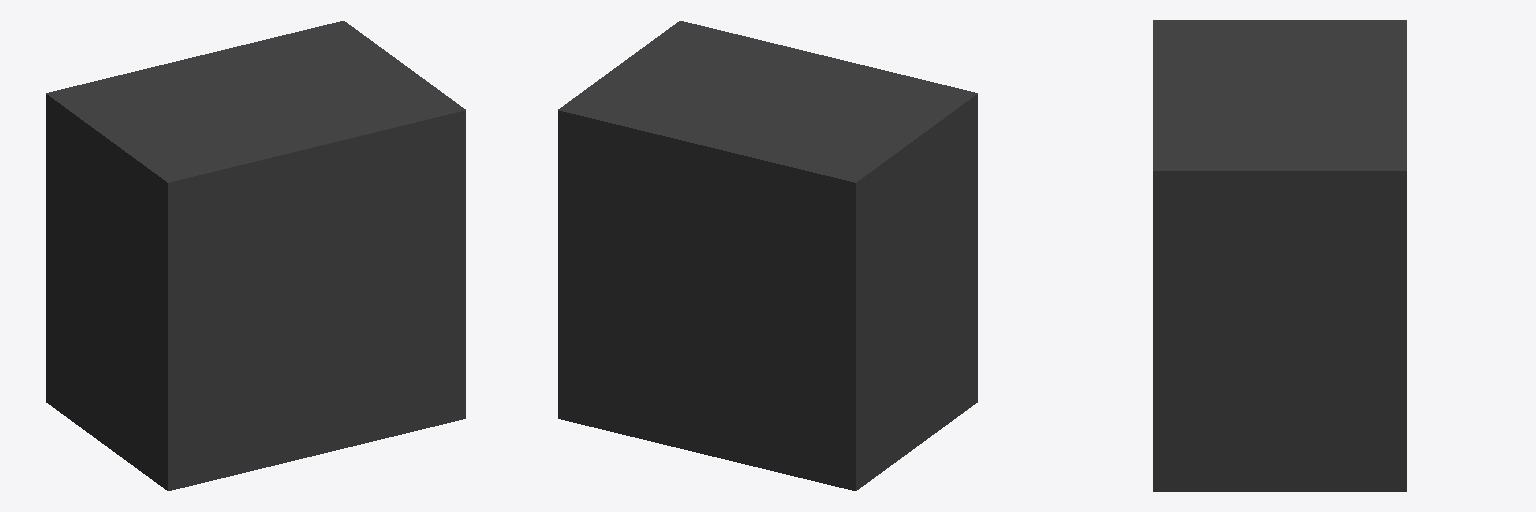
URDF robot description (box.urdf):
<?xml version="1.0" ?>
<robot name="box.urdf">
  <link name="baseLink">
    <contact>
      <lateral_friction value="1.0"/>
      <rolling_friction value="0.0001"/>
      <inertia_scaling value="3.0"/>
    </contact>
    <inertial>
      <origin rpy="0 0 0" xyz="0 0 0"/>
       <mass value="0.1"/>
       <inertia ixx="1" ixy="0" ixz="0" iyy="1" iyz="0" izz="1"/>
    </inertial>
    <visual>
      <origin rpy="0 0 0" xyz="0 0 0"/>
      <geometry>
        <!-- <box size="0.256 0.182 0.253"/> -->
        <mesh filename="box/box.obj" scale="0.256 0.182 0.253"/>
      </geometry>
      <material name="white">
        <color rgba="0.3 0.3 0.3 1"/>
      </material>
    </visual>
    <collision>
      <origin rpy="0 0 0" xyz="0 0 0"/>
      <geometry>
        <mesh filename="box/box.obj" scale="0.256 0.182 0.253"/>
	 	    <!-- <box size="0.256 0.182 0.253"/> -->
      </geometry>
    </collision>
  </link>
</robot>

--- Render facts (derived) ---
The picture shows the robot from 3 angles, left to right: view 1: azimuth 30°, elevation 25°; view 2: azimuth 150°, elevation 25°; view 3: azimuth 270°, elevation 25°; orthographic projection.
Robot: box.urdf — 1 links, 0 joints (none); root link baseLink; default pose: every joint at zero.
Visible links, largest first — view 1: baseLink; view 2: baseLink; view 3: baseLink.
Link boxes in pixels (x1,y1,x2,y2): baseLink: (46,21,465,490); baseLink: (558,21,977,490); baseLink: (1153,20,1406,491).
Size in the robot's own frame: 0.256 by 0.182 by 0.253 metres.
1 mesh visuals loaded from 1 distinct referenced files (1 OBJ).
